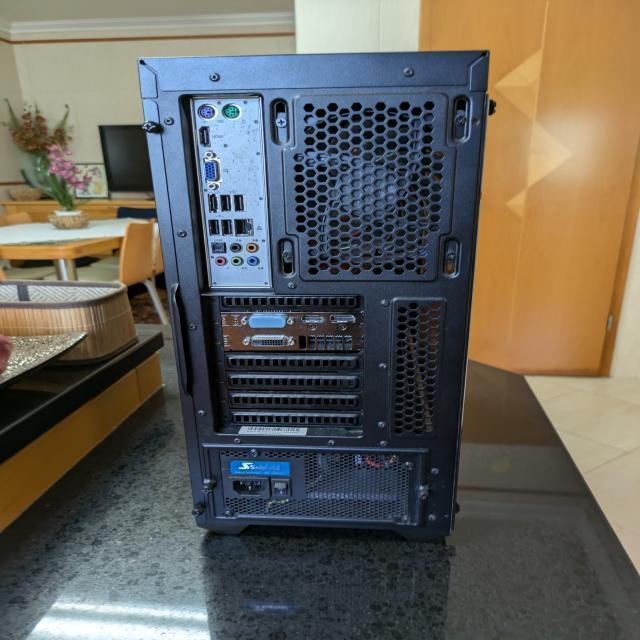PSU: (218, 449, 416, 526)
